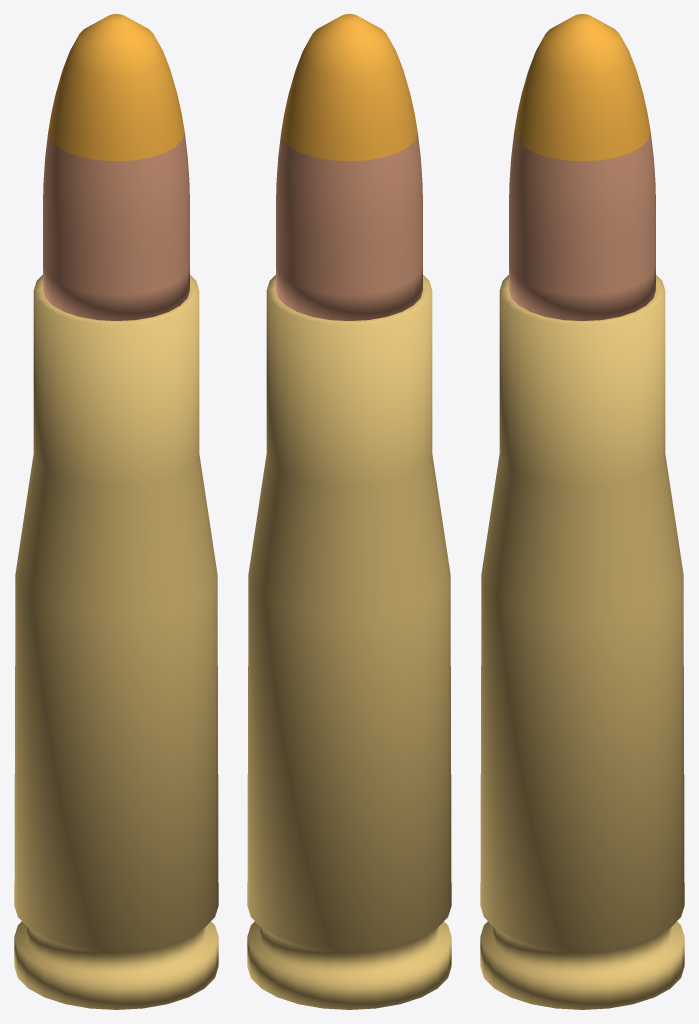
3 renders of one model, left to right at view 1: azimuth 30°, elevation 25°; view 2: azimuth 150°, elevation 25°; view 3: azimuth 270°, elevation 25°, orthographic.
Visible parts, largest first — view 1: vaina, bala_cuerpo, punta; view 2: vaina, bala_cuerpo, punta; view 3: vaina, bala_cuerpo, punta.
Boxes of the visible parts, x1,y1,x2,y2 form: vaina: (14, 275, 218, 1009); bala_cuerpo: (43, 133, 189, 320); punta: (48, 14, 184, 161); vaina: (247, 275, 451, 1009); bala_cuerpo: (276, 133, 422, 320); punta: (281, 14, 417, 161); vaina: (480, 275, 684, 1009); bala_cuerpo: (509, 133, 655, 320); punta: (514, 14, 650, 161).
Size of the model in its own units: 0.0079 by 0.0405 by 0.0079.
